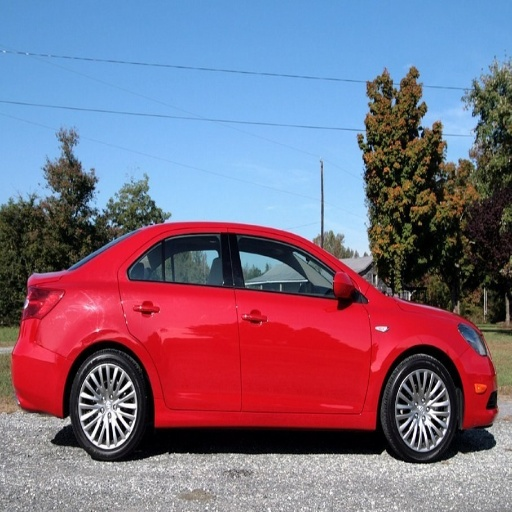back_right_door: (120, 232, 240, 408)
front_right_door: (231, 231, 371, 411)
